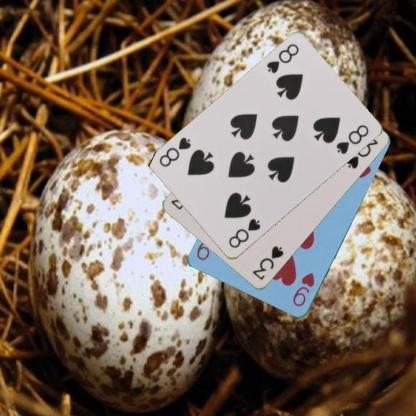3s: (250, 243, 286, 282)
8s: (226, 216, 262, 250), (264, 41, 300, 75)
9h: (290, 270, 316, 308)
